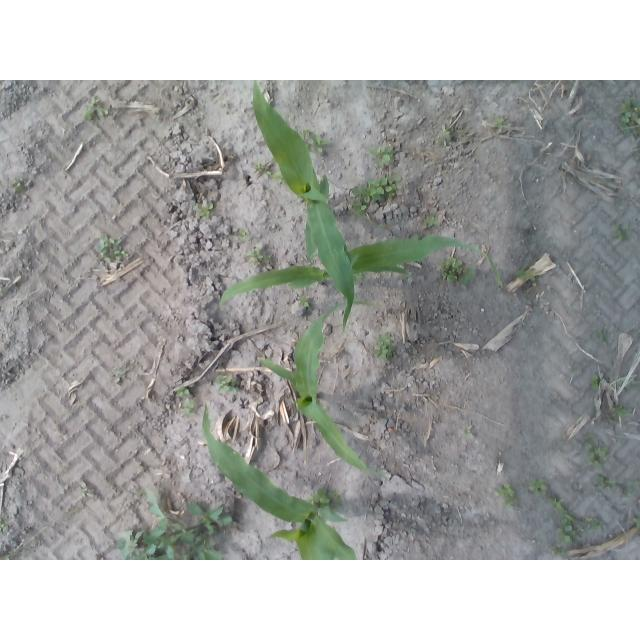Maize: (222, 176, 489, 303), (252, 80, 357, 333), (201, 404, 359, 560), (256, 306, 366, 471)
Weeds: (111, 490, 234, 559), (552, 498, 607, 534), (353, 176, 403, 210), (619, 97, 640, 137), (586, 434, 609, 467), (439, 257, 463, 284), (372, 337, 396, 360), (176, 386, 195, 415), (214, 375, 239, 397), (370, 144, 396, 165), (83, 99, 106, 122), (249, 250, 273, 268), (316, 488, 341, 505), (251, 161, 271, 180), (310, 136, 331, 153), (597, 475, 615, 494), (612, 221, 629, 241), (498, 484, 514, 505), (196, 200, 214, 218), (529, 478, 547, 496), (114, 368, 131, 386), (518, 267, 537, 283), (556, 526, 573, 543), (101, 235, 115, 254), (611, 405, 627, 420), (81, 482, 92, 498), (596, 328, 608, 342), (490, 118, 504, 129), (423, 217, 438, 227), (592, 373, 600, 391), (14, 182, 26, 194), (297, 299, 311, 309), (114, 248, 124, 261), (441, 125, 449, 135), (633, 518, 640, 529)
